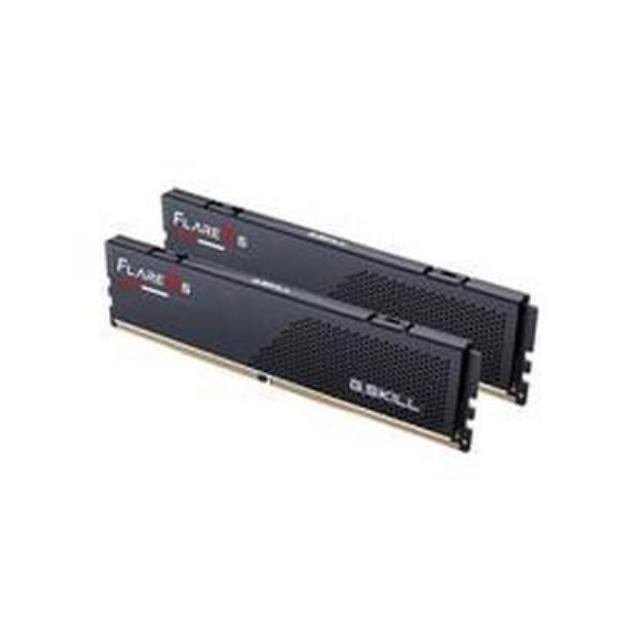RAM: (94, 175, 542, 462)
